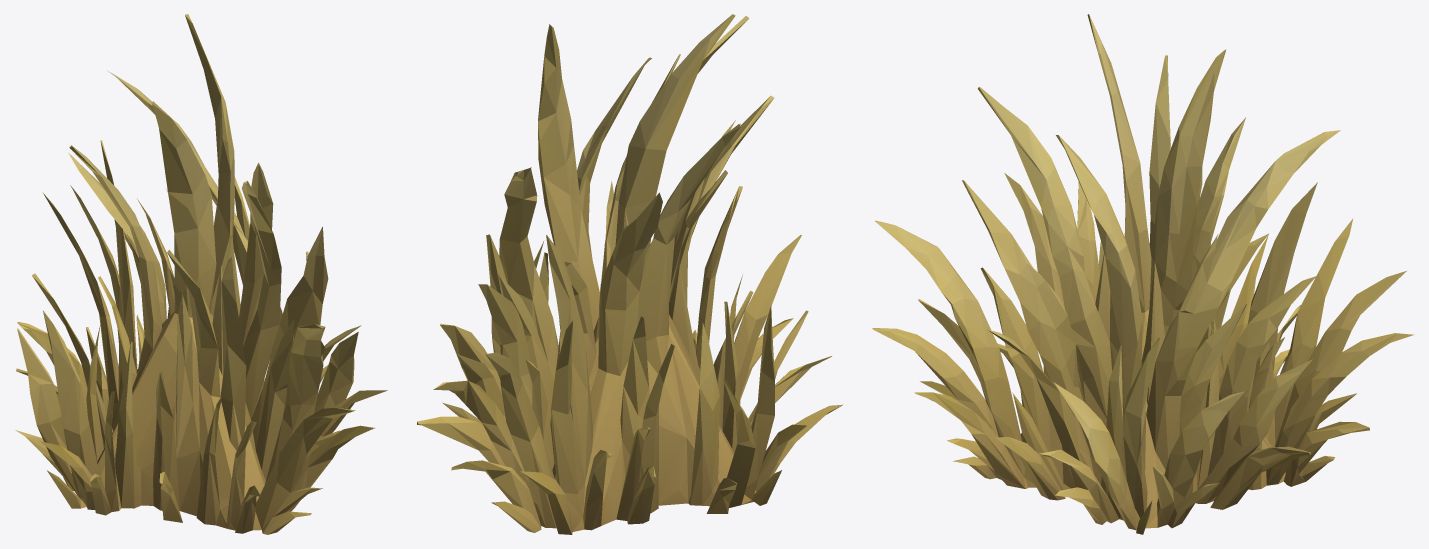
The model's file is grass_tuft.glb.
3 renders of one model, left to right at view 1: azimuth 30°, elevation 25°; view 2: azimuth 150°, elevation 25°; view 3: azimuth 270°, elevation 25°, orthographic. The views are drawn at different scales.
Visible parts, largest first — view 1: tripo_node_d29e1912-31c3-4a63-8ad9-6fc49e6465b8; view 2: tripo_node_d29e1912-31c3-4a63-8ad9-6fc49e6465b8; view 3: tripo_node_d29e1912-31c3-4a63-8ad9-6fc49e6465b8.
Boxes of the visible parts, x1,y1,x2,y2 form: tripo_node_d29e1912-31c3-4a63-8ad9-6fc49e6465b8: (15, 14, 387, 534); tripo_node_d29e1912-31c3-4a63-8ad9-6fc49e6465b8: (417, 14, 843, 534); tripo_node_d29e1912-31c3-4a63-8ad9-6fc49e6465b8: (872, 14, 1414, 534).
Bounding box in the file's own units: 0.6476 × 0.8761 × 0.9756.
